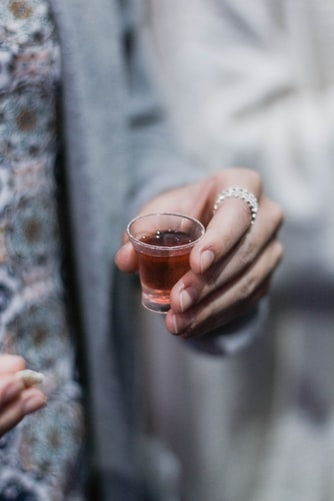whiskey: (126, 211, 202, 311)
